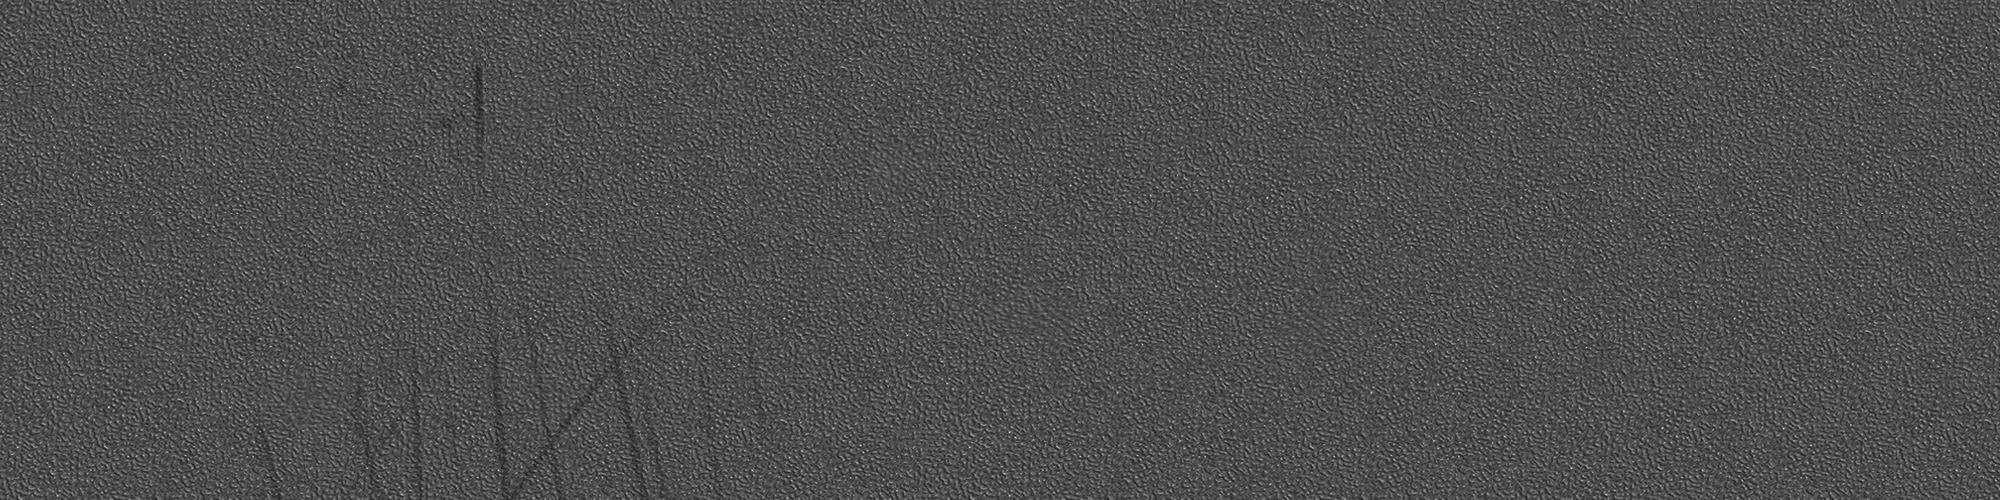Scratches: (490, 312, 668, 497), (328, 305, 473, 500), (672, 273, 739, 500), (423, 48, 504, 181), (735, 315, 781, 448), (247, 402, 288, 500), (622, 48, 687, 94), (329, 29, 364, 105), (694, 46, 726, 108), (247, 324, 267, 357)
